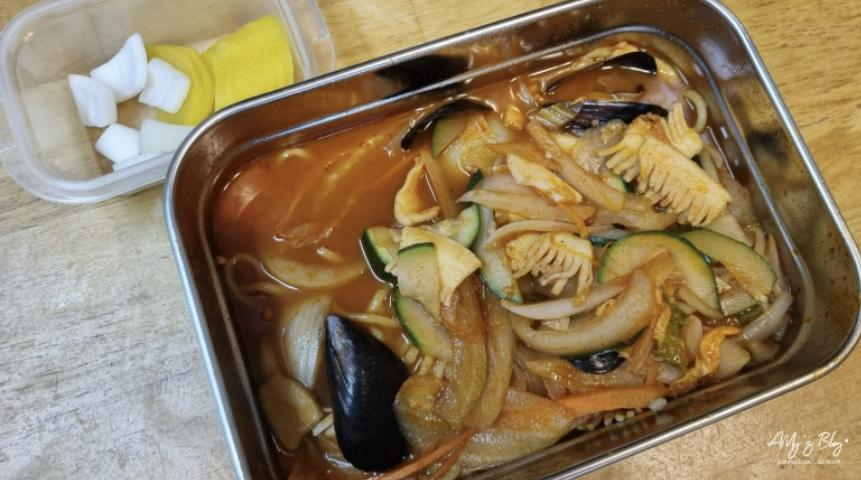Lunch Box: (165, 0, 860, 479), (0, 0, 334, 202)
